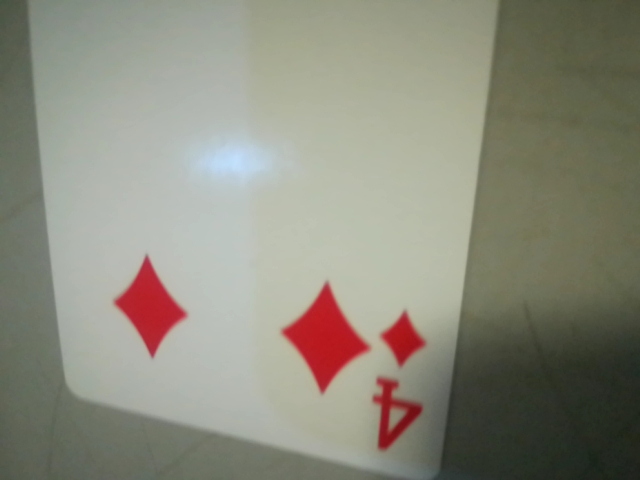fk 4: (359, 293, 445, 474)
